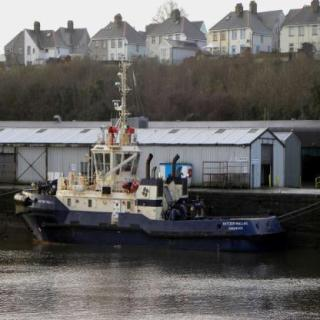Tug Boat: (18, 132, 286, 243)
